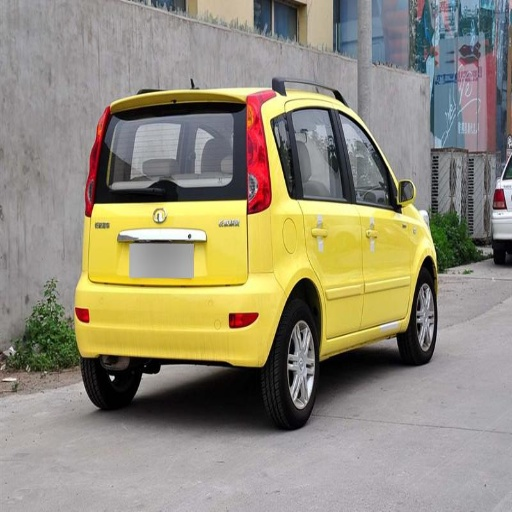back_bumper: (73, 272, 286, 364)
back_right_door: (289, 104, 362, 336)
trunk: (88, 199, 266, 284)
